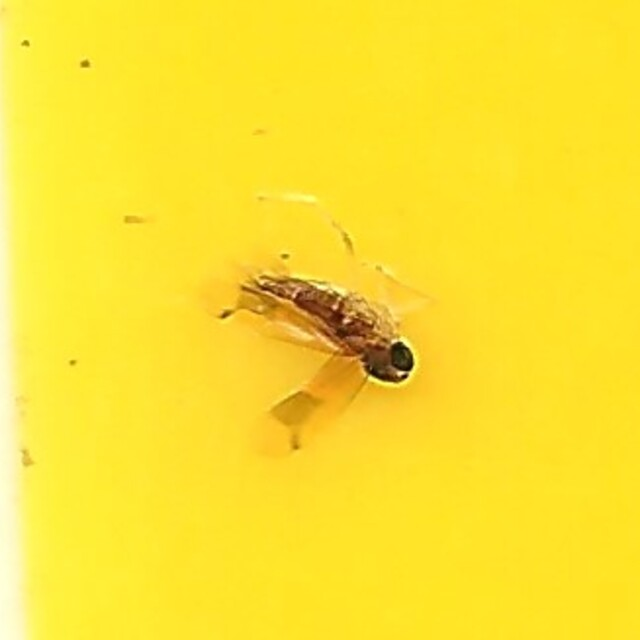Hemiptera: (196, 183, 444, 457)
